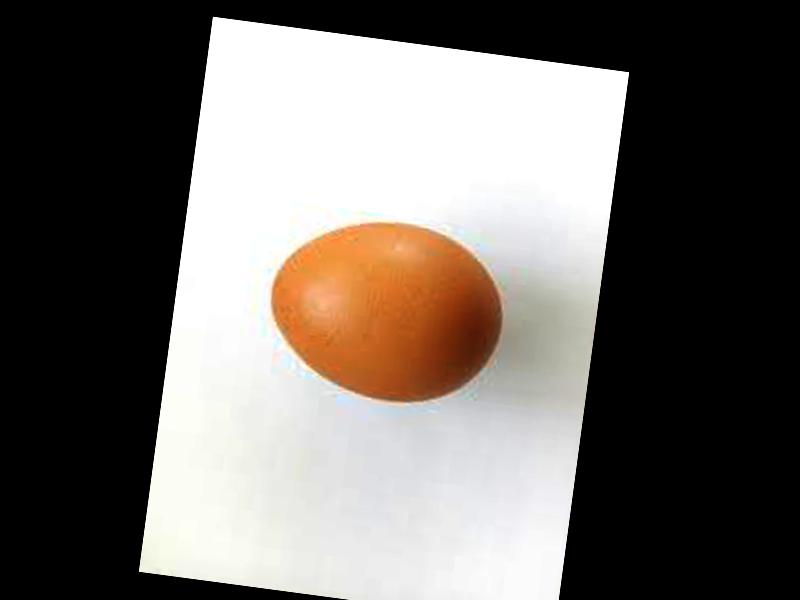Eggs: (255, 209, 515, 416)
